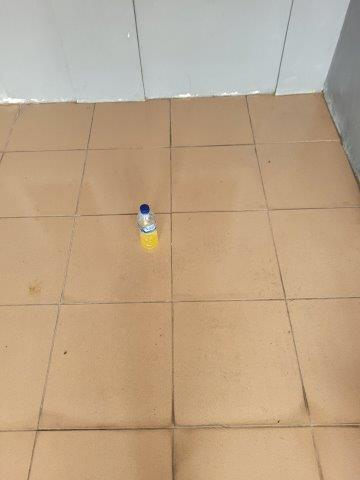botolplastik: (137, 206, 158, 250)
